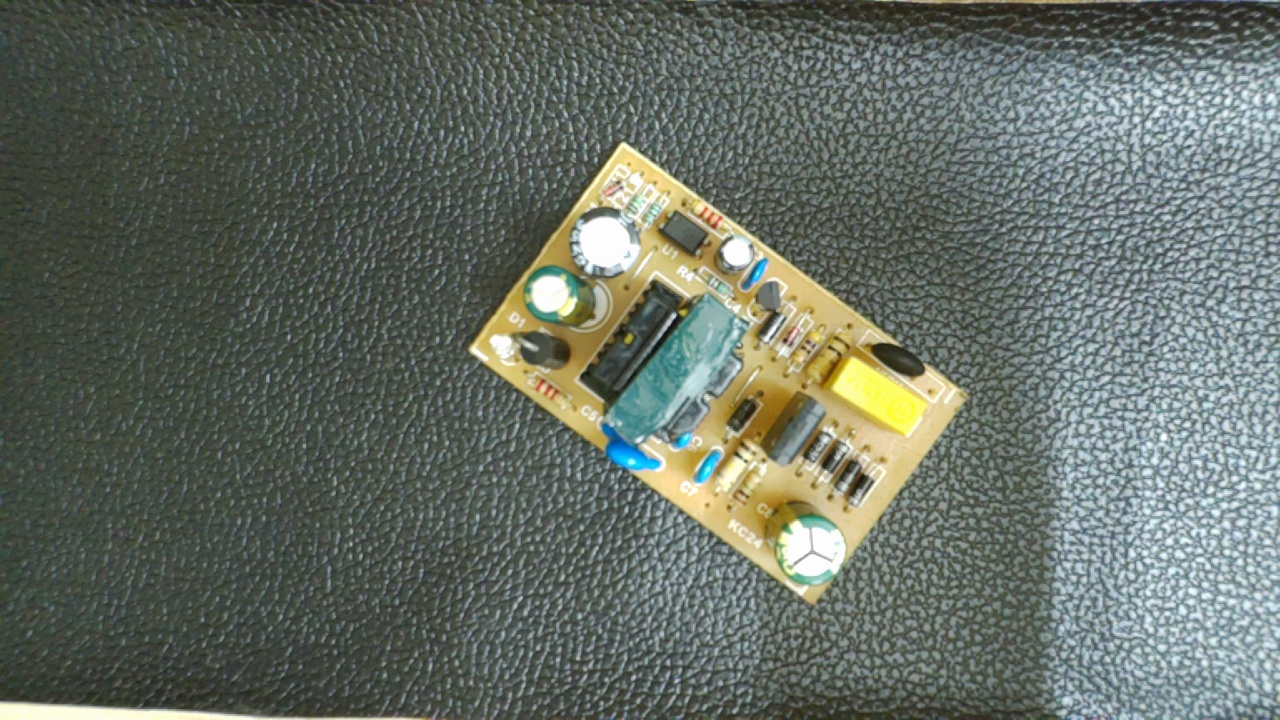fuse: (864, 339, 927, 378)
hv_capacitor: (764, 504, 848, 582)
mov: (590, 417, 663, 473)
optocoupler: (654, 209, 713, 260)
